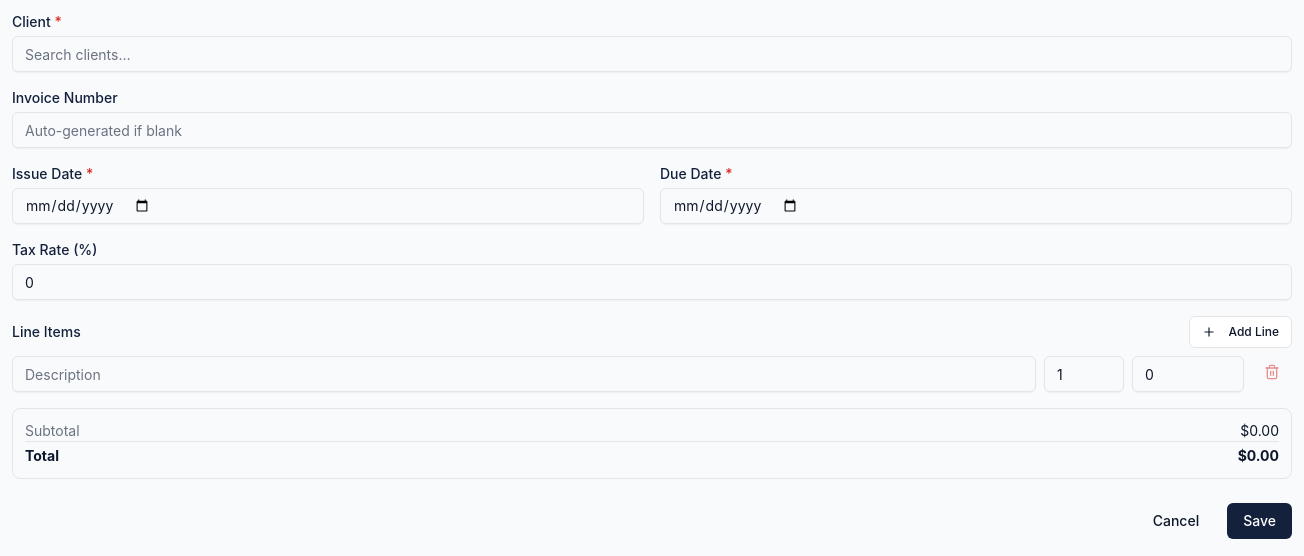
InvoiceForm › shows client dropdown when typing in client search
Step 1. Click the field with test id "input-client-search" → (652, 54), box x1=12 y1=36 x2=1292 y2=72
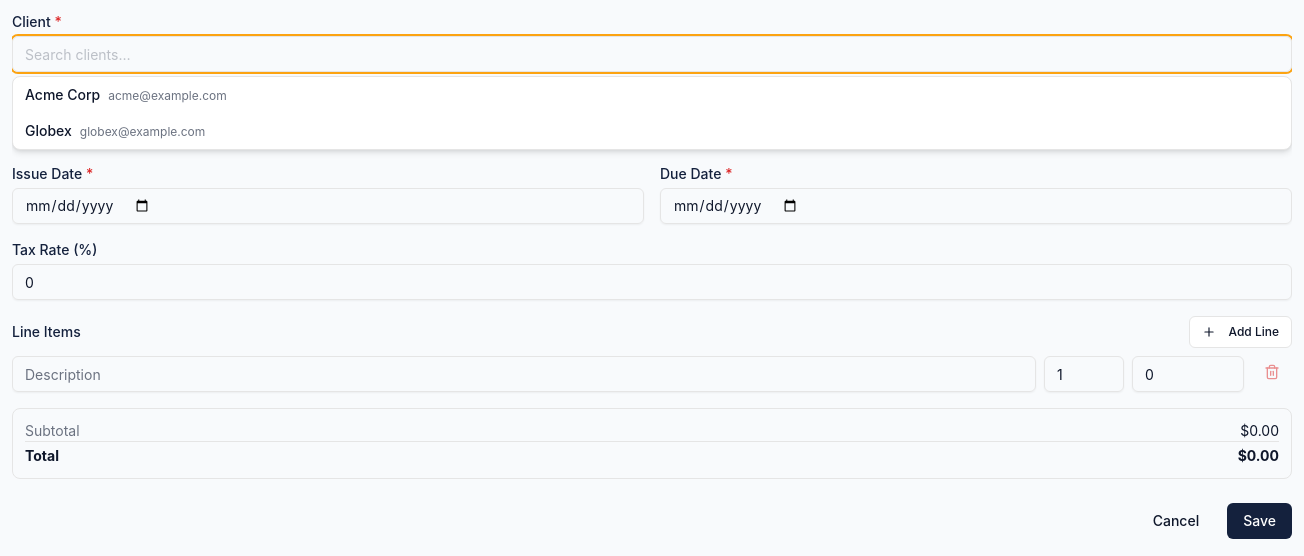
Result: the list with test id "client-dropdown" is shown at x1=12 y1=76 x2=1292 y2=150
